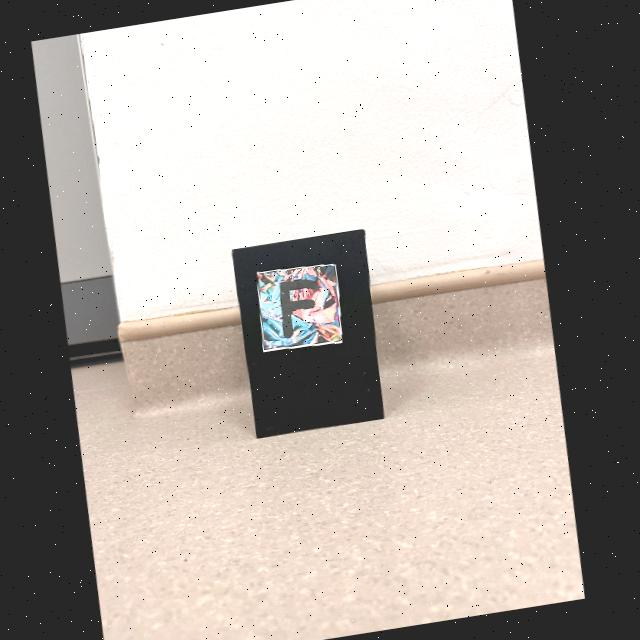F: (283, 280, 321, 338)
